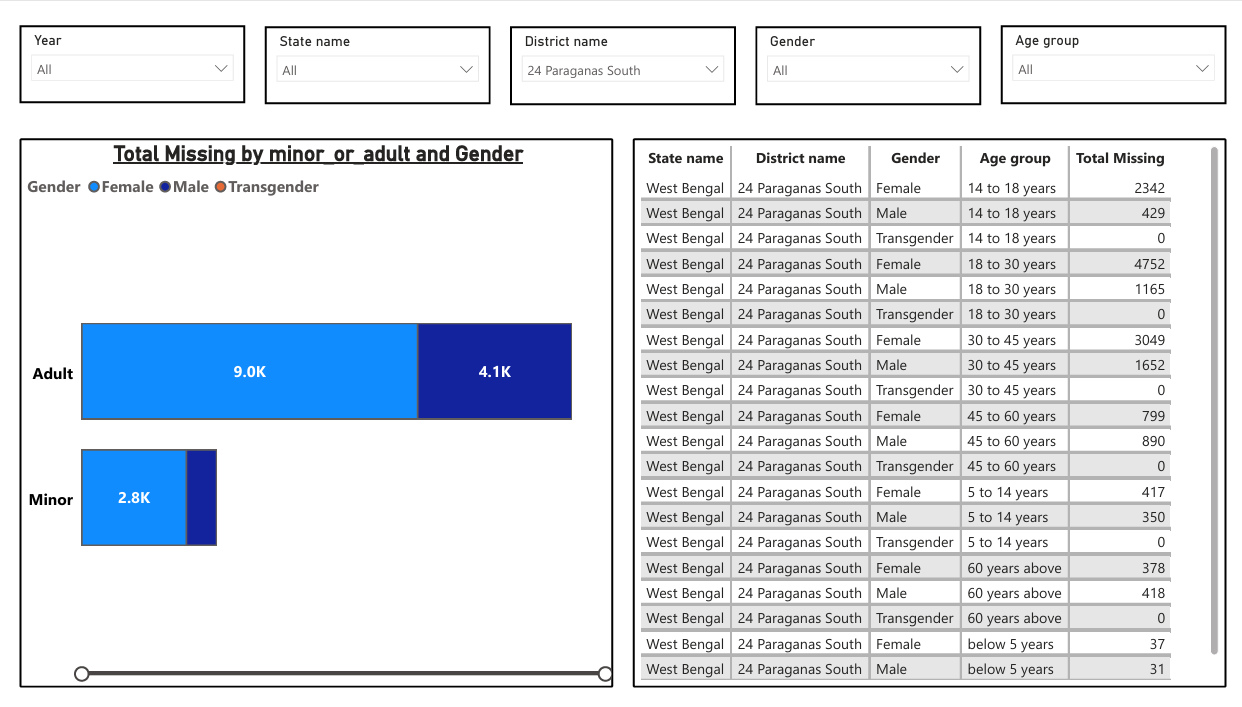

Layout of this report page (visuals, bound fields, positions):
{"tool":"powerbi","page":{"name":" Page 3","canvas":[1280,720],"ordinal":2},"visuals":[{"type":"slicer","fields":{"Values":["cleaned_missing_data.Year"]},"box":[20,20,232,80],"z":0},{"type":"slicer","fields":{"Values":["cleaned_missing_data.State name"]},"box":[272,20.6,232,80],"z":1000},{"type":"slicer","fields":{"Values":["cleaned_missing_data.District name"]},"box":[524,20.6,232,81],"z":2000},{"type":"slicer","fields":{"Values":["cleaned_missing_data.Gender"]},"box":[776,20.6,232,81],"z":3000},{"type":"slicer","fields":{"Values":["cleaned_missing_data.Age group"]},"box":[1028,20,232,81],"z":4000},{"type":"barChart","fields":{"Category":["cleaned_missing_data.minor_or_adult"],"Y":["cleaned_missing_data.Total Missing"],"Series":["cleaned_missing_data.Gender"]},"box":[20,136,610,564],"z":5000},{"type":"tableEx","fields":{"Values":["cleaned_missing_data.State name","cleaned_missing_data.District name","cleaned_missing_data.Gender","cleaned_missing_data.Age group","cleaned_missing_data.Total Missing"]},"box":[650,136.4,610,564],"z":6000}]}

Visuals, with their boxes in screenshot pixels (x1, y1, x2, y2), scaled from the page's 1280x720 canvas onto the 1242x707 screenshot:
slicer - cleaned_missing_data.Year: detection(19, 20, 245, 98)
slicer - cleaned_missing_data.State name: detection(264, 20, 489, 99)
slicer - cleaned_missing_data.District name: detection(508, 20, 734, 100)
slicer - cleaned_missing_data.Gender: detection(753, 20, 978, 100)
slicer - cleaned_missing_data.Age group: detection(997, 20, 1223, 99)
barChart - cleaned_missing_data.minor_or_adult x cleaned_missing_data.Total Missing: detection(19, 134, 611, 687)
tableEx - cleaned_missing_data.State name x cleaned_missing_data.District name: detection(631, 134, 1223, 688)
